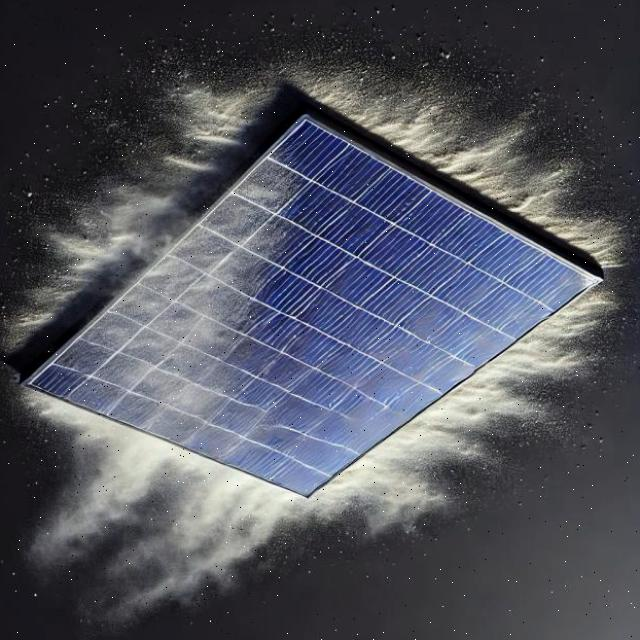Anomaly Solar Panel: (29, 53, 596, 615)
Surface Contaminant: (43, 96, 343, 466)
